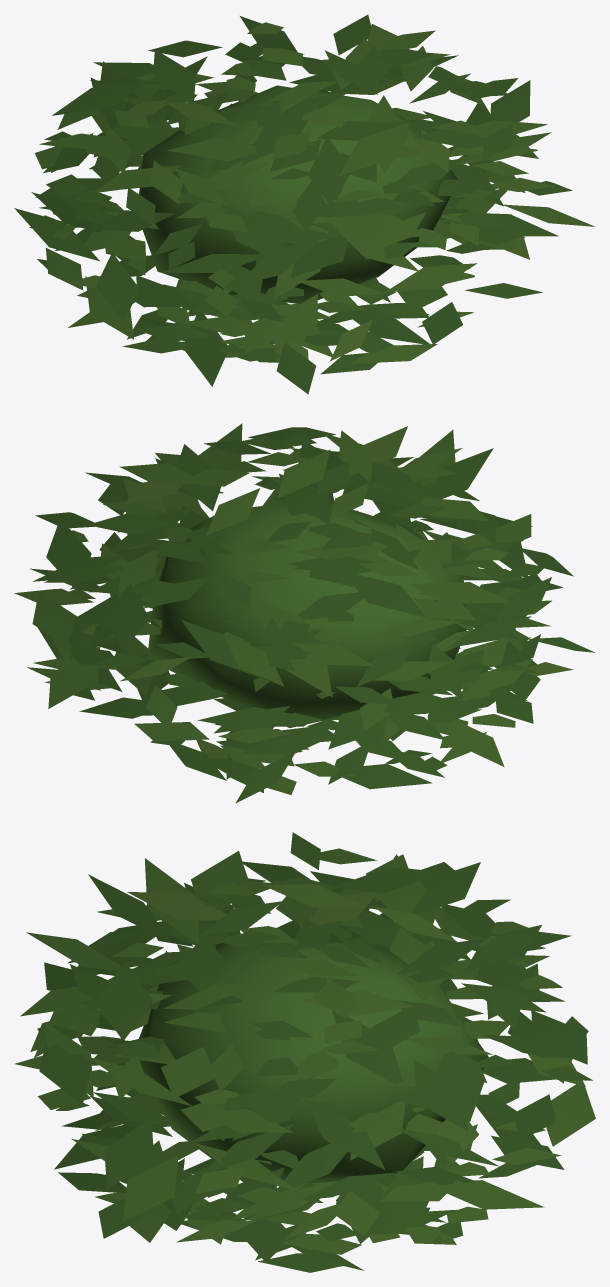
The model's file is shrub.glb.
The picture shows the model from 3 angles, top to bottom: view 1: azimuth 30°, elevation 25°; view 2: azimuth 150°, elevation 25°; view 3: azimuth 270°, elevation 25°; orthographic projection. The views are drawn at different scales.
Parts seen in each view (by area): view 1: shrub; view 2: shrub; view 3: shrub.
Boxes of the visible parts, x1,y1,x2,y2 form: shrub: (14, 14, 595, 394); shrub: (14, 423, 594, 803); shrub: (15, 832, 595, 1272).
Bounding box in the file's own units: 1.55 × 0.9003 × 1.34.
